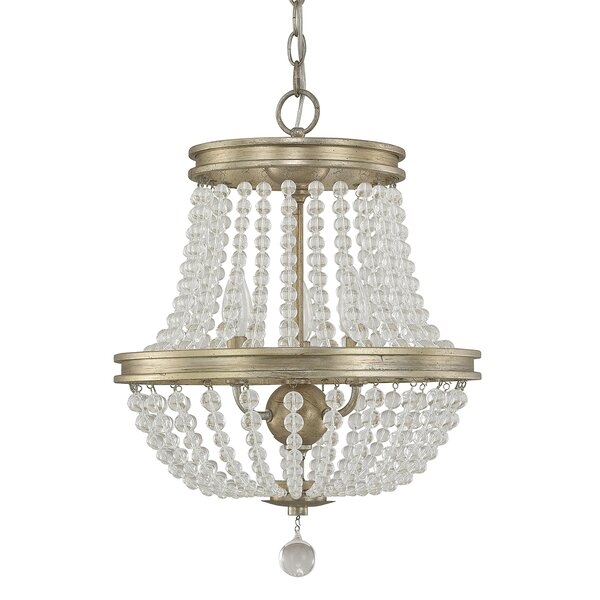chandelier: (97, 1, 501, 582)
